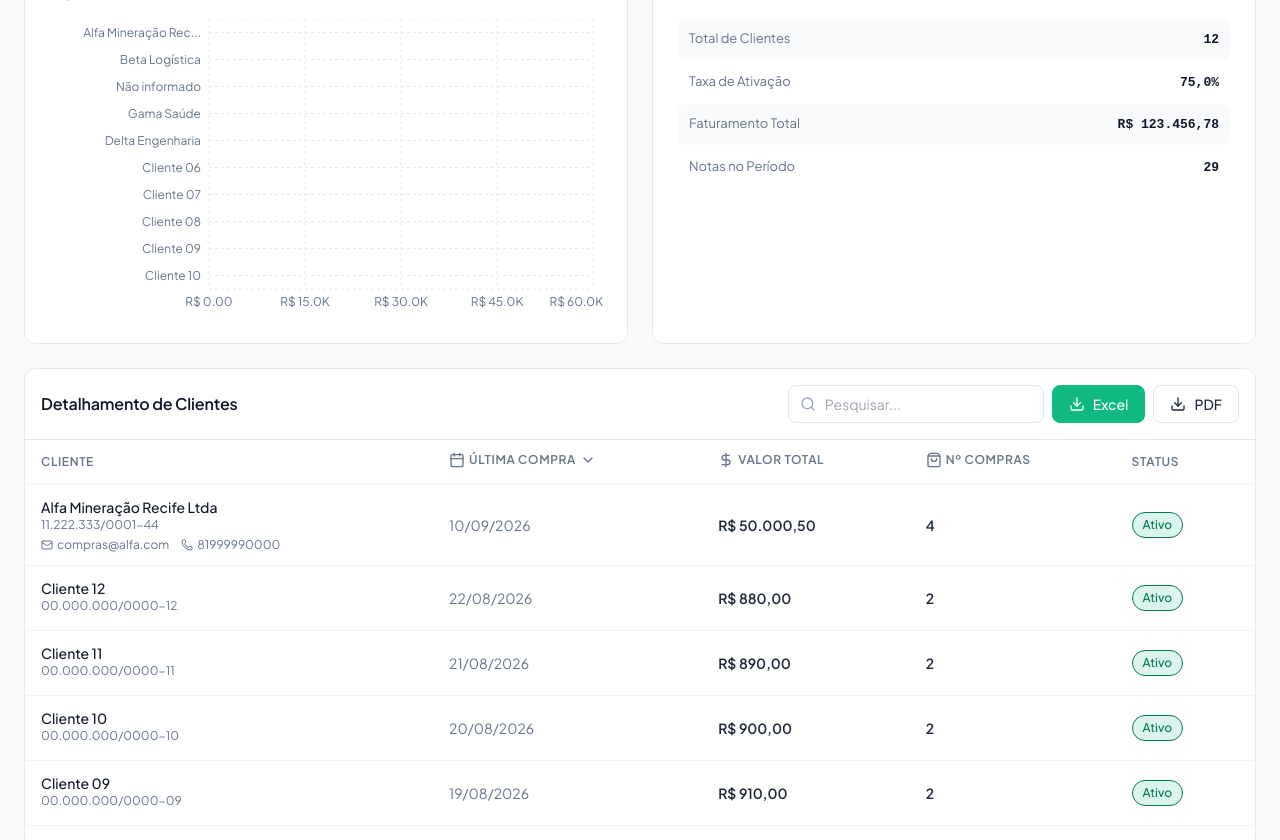
Test: PDF de Clientes › a pesquisa que nao acha nada tambem desabilita
(page scrolled)
Expected: the button "Excel" is enabled, [1052,385,1145,423]
Type "zzz-ninguem" into the field with placeholder "Pesquisar..." at x=916, y=404, box [788,385,1044,423]
(page scrolled)
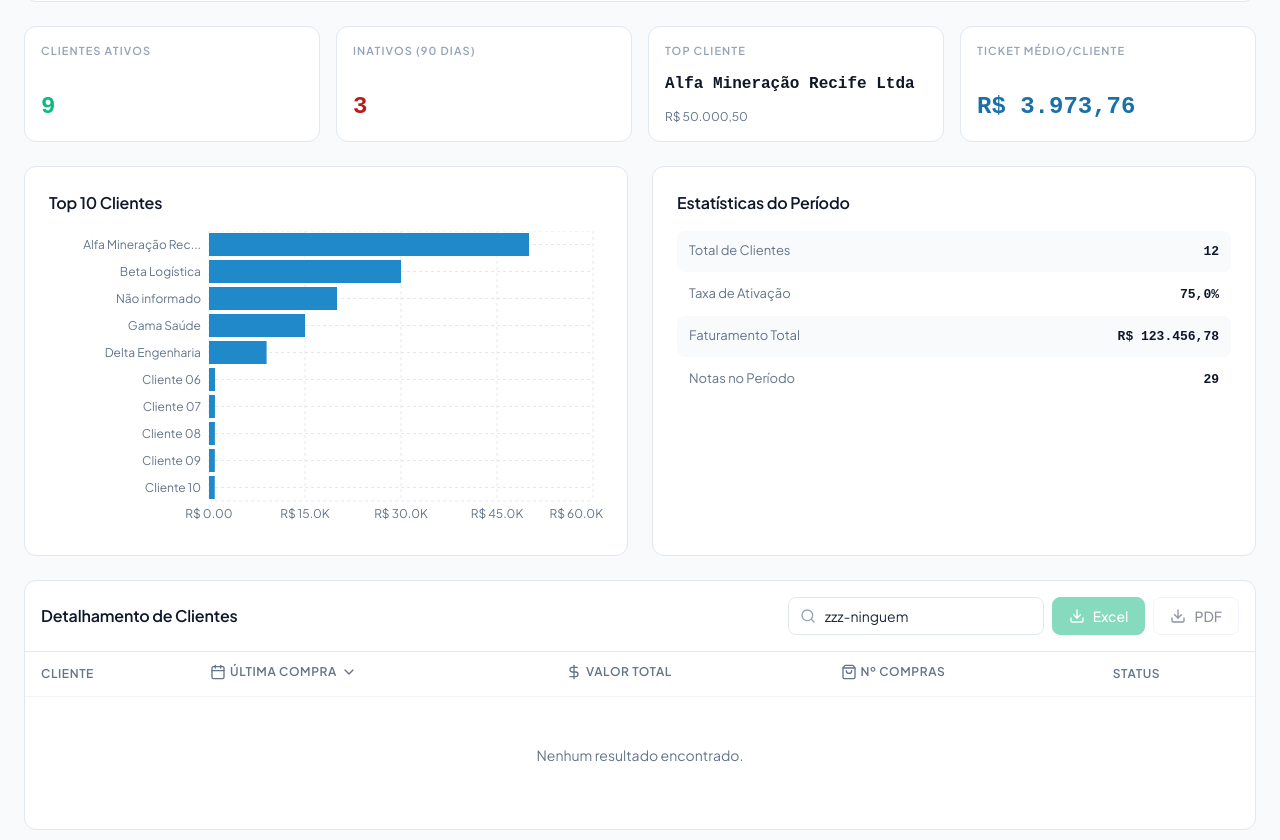
Now the button "Excel" is disabled, box [1052,597,1145,635]
Now the button "PDF" is disabled, box [1153,597,1239,635]
